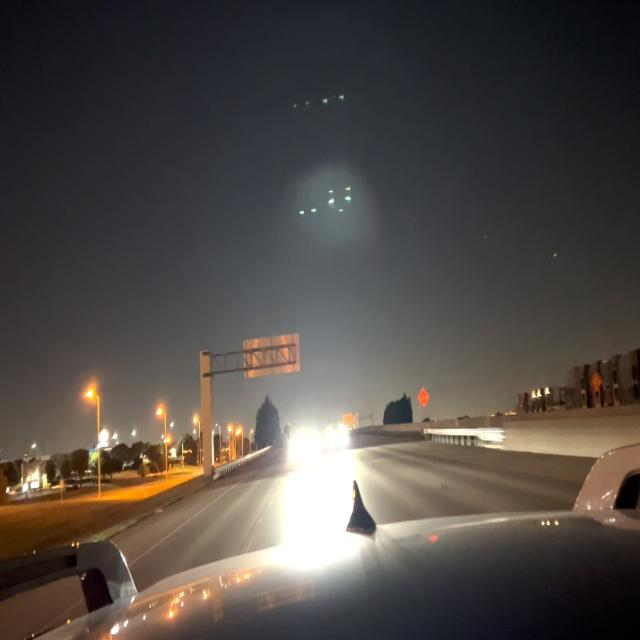back-of-sign: (242, 332, 302, 380)
